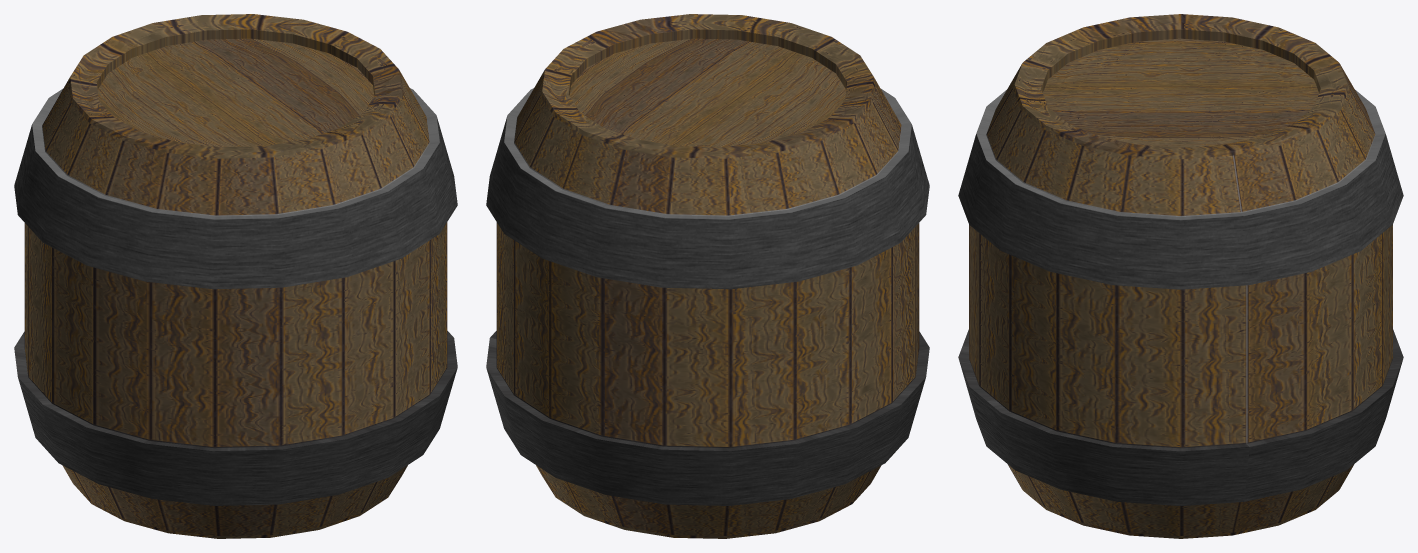
The model's file is Barrel.fbx.
The picture shows the model from 3 angles, left to right: view 1: azimuth 30°, elevation 25°; view 2: azimuth 150°, elevation 25°; view 3: azimuth 270°, elevation 25°; orthographic projection.
Visible parts, largest first — view 1: Barrel; view 2: Barrel; view 3: Barrel.
Part boxes in pixels (box(x1,y1,x2,y2)): Barrel: box(14, 14, 457, 538); Barrel: box(486, 14, 929, 538); Barrel: box(958, 14, 1403, 538).
Size of the model in its own units: 2.1 by 2 by 2.1.
1 material, 1 textured.
